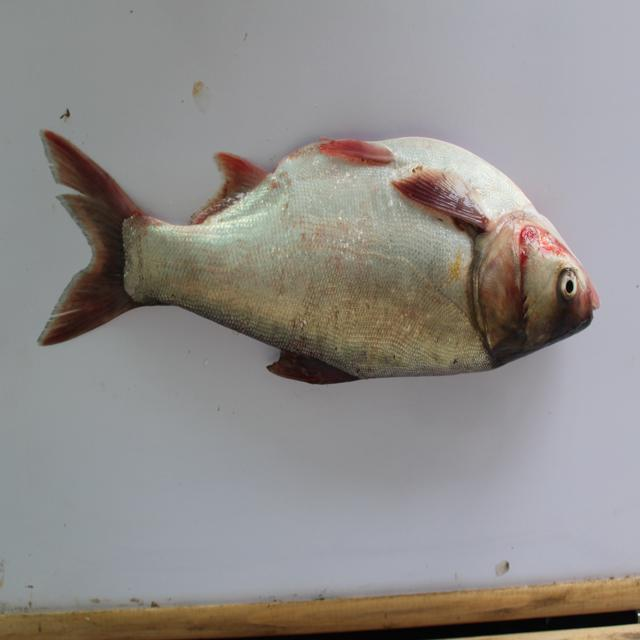SilverCarp: (21, 107, 607, 405)
